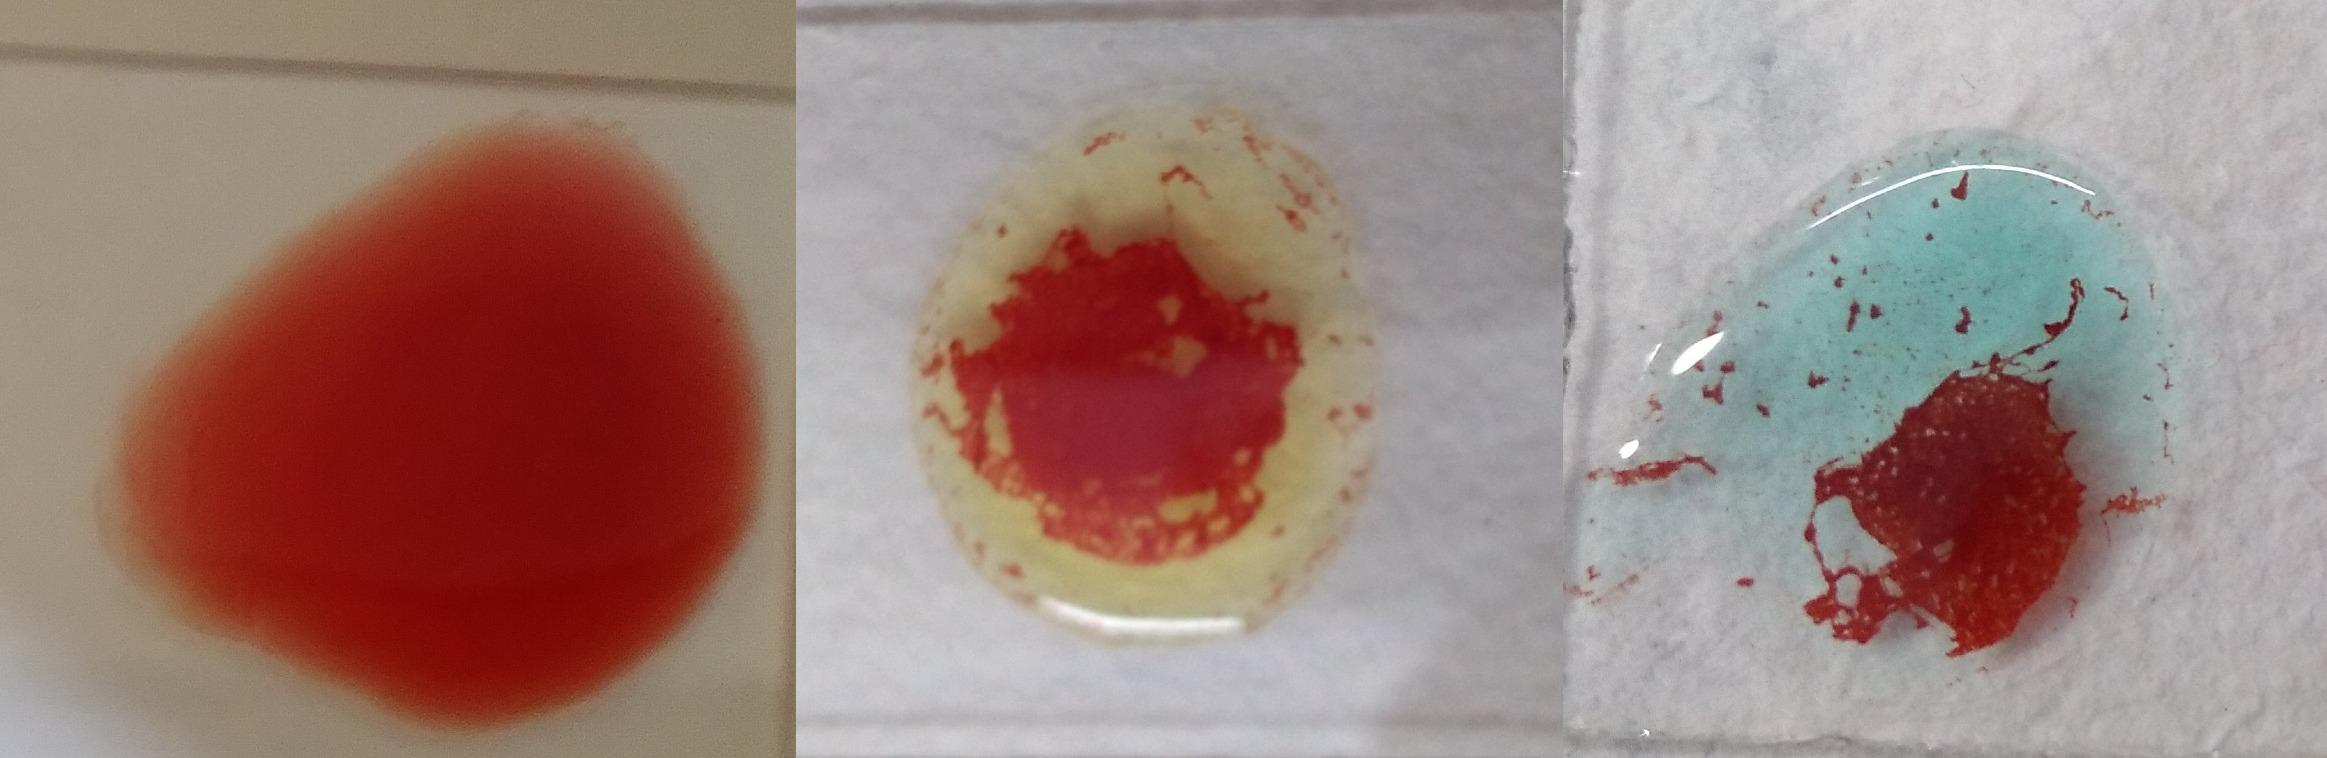A: (1629, 134, 2173, 706)
B: (920, 93, 1352, 644)
